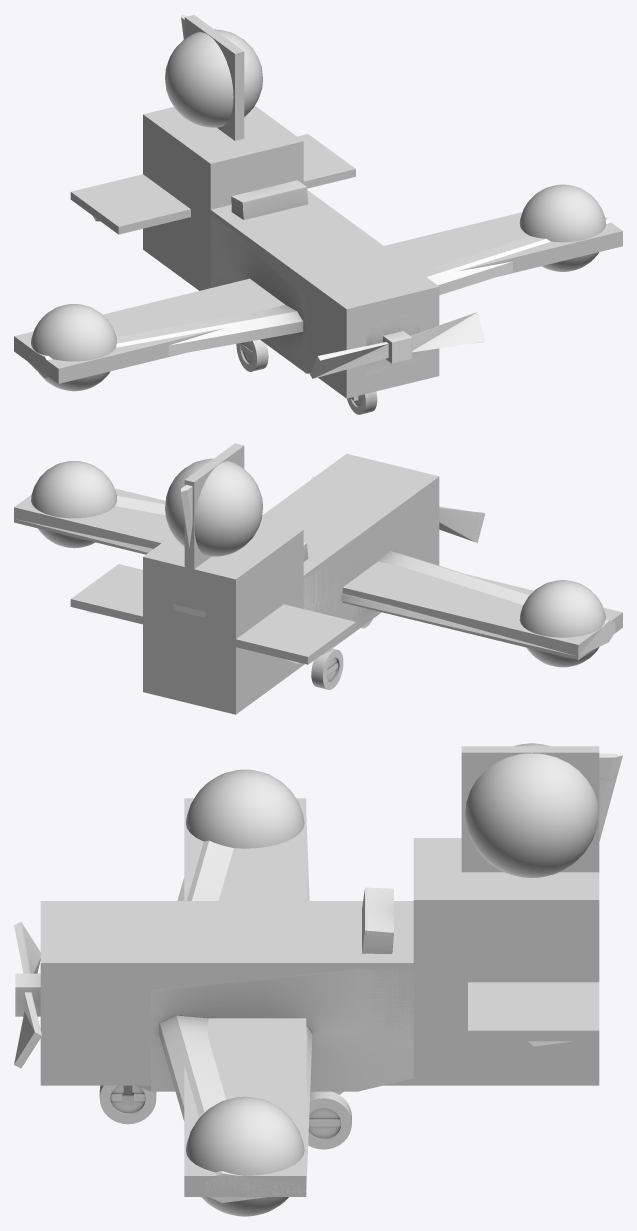
File: airplane.fbx
The picture shows the model from 3 angles, top to bottom: view 1: azimuth 30°, elevation 25°; view 2: azimuth 150°, elevation 25°; view 3: azimuth 270°, elevation 25°; orthographic projection. The views are drawn at different scales.
Parts seen in each view (by area): view 1: Cube.008, body, Cube.009, Cube.014, Cube.013, Sphere.004, Sphere.002, Sphere.003, Cube.012, rotor, Cube.010, Cube.011 (+1 smaller); view 2: Cube.008, Cube.009, Cube.014, Sphere.004, body, Sphere.002, Cube.013, Sphere.003, Cube.012, Cube.011, Cube.010, rotor (+3 smaller); view 3: Cube.008, body, Cube.009, Sphere.004, Cube.013, Sphere.003, Cube.011, Sphere.002, Cube.014, Cube.010, rotor, wheel_fl.001 (+1 smaller).
Part boxes in pixels (left/top/right/bottom): Cube.008: left=143, top=160, right=439, bottom=398; body: left=28, top=14, right=610, bottom=400; Cube.009: left=143, top=106, right=303, bottom=209; Cube.014: left=14, top=278, right=284, bottom=383; Cube.013: left=384, top=212, right=622, bottom=276; Sphere.004: left=165, top=29, right=262, bottom=127; Sphere.002: left=31, top=304, right=116, bottom=391; Sphere.003: left=519, top=184, right=605, bottom=271; Cube.012: left=70, top=174, right=190, bottom=234; rotor: left=310, top=312, right=485, bottom=378; Cube.010: left=184, top=15, right=244, bottom=140; Cube.011: left=297, top=134, right=355, bottom=188; Cube.008: left=143, top=453, right=439, bottom=714; Cube.009: left=143, top=520, right=303, bottom=625; Cube.014: left=342, top=561, right=622, bottom=660; Sphere.004: left=165, top=458, right=262, bottom=556; body: left=16, top=484, right=615, bottom=663; Sphere.002: left=519, top=580, right=605, bottom=667; Cube.013: left=14, top=488, right=172, bottom=554; Sphere.003: left=31, top=461, right=116, bottom=548; Cube.012: left=236, top=604, right=355, bottom=664; Cube.011: left=70, top=564, right=142, bottom=624; Cube.010: left=184, top=443, right=244, bottom=569; rotor: left=310, top=476, right=485, bottom=542; Cube.008: left=40, top=901, right=599, bottom=1085; body: left=122, top=753, right=622, bottom=1202; Cube.009: left=413, top=838, right=599, bottom=962; Sphere.004: left=465, top=743, right=598, bottom=877; Cube.013: left=184, top=1018, right=306, bottom=1196; Sphere.003: left=186, top=1096, right=304, bottom=1216; Cube.011: left=468, top=982, right=599, bottom=1041; Sphere.002: left=186, top=769, right=304, bottom=848; Cube.014: left=184, top=798, right=306, bottom=900; Cube.010: left=461, top=746, right=599, bottom=872; rotor: left=14, top=922, right=41, bottom=1068; wheel_fl.001: left=308, top=1091, right=351, bottom=1149.
Size of the model in its own units: 356 by 163 by 243.
Materials: 2 (2 with a texture image).
